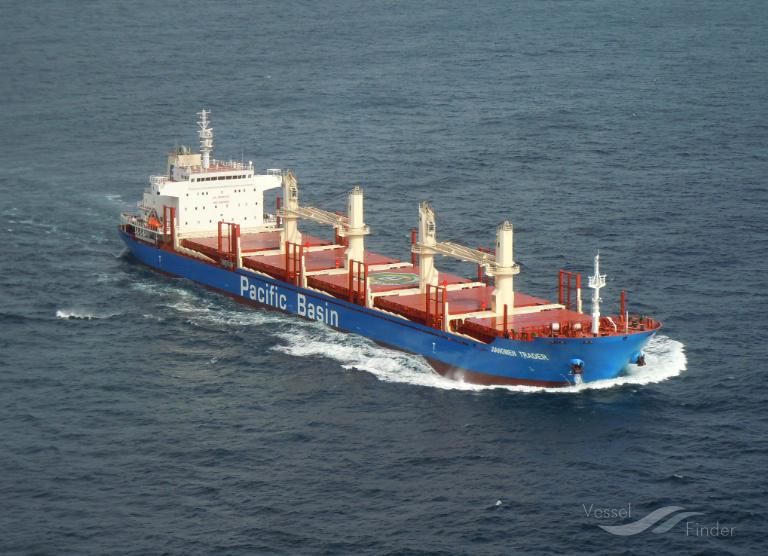OCR: (234, 268, 348, 338), (490, 339, 558, 368)
